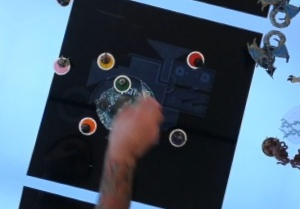blue: (51, 0, 74, 8)
green: (110, 71, 134, 94)
orange: (74, 113, 102, 137)
pink: (46, 53, 72, 78)
red: (184, 47, 208, 71)
violet: (166, 124, 191, 151)
yellow: (92, 48, 117, 73)
